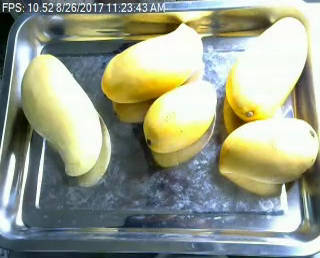Mango: (19, 54, 102, 177), (224, 16, 309, 120), (101, 21, 203, 103), (218, 118, 319, 184), (143, 80, 215, 152)
